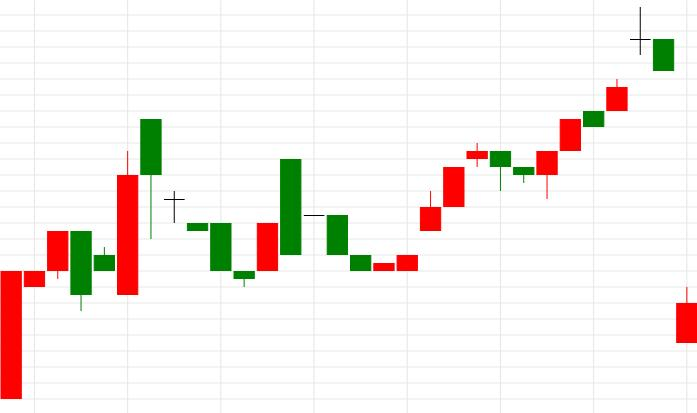bearish_engulfing_fall: (0, 229, 92, 399)
evening_star_fall: (536, 6, 674, 198)
morning_star_rise: (139, 120, 278, 287)
